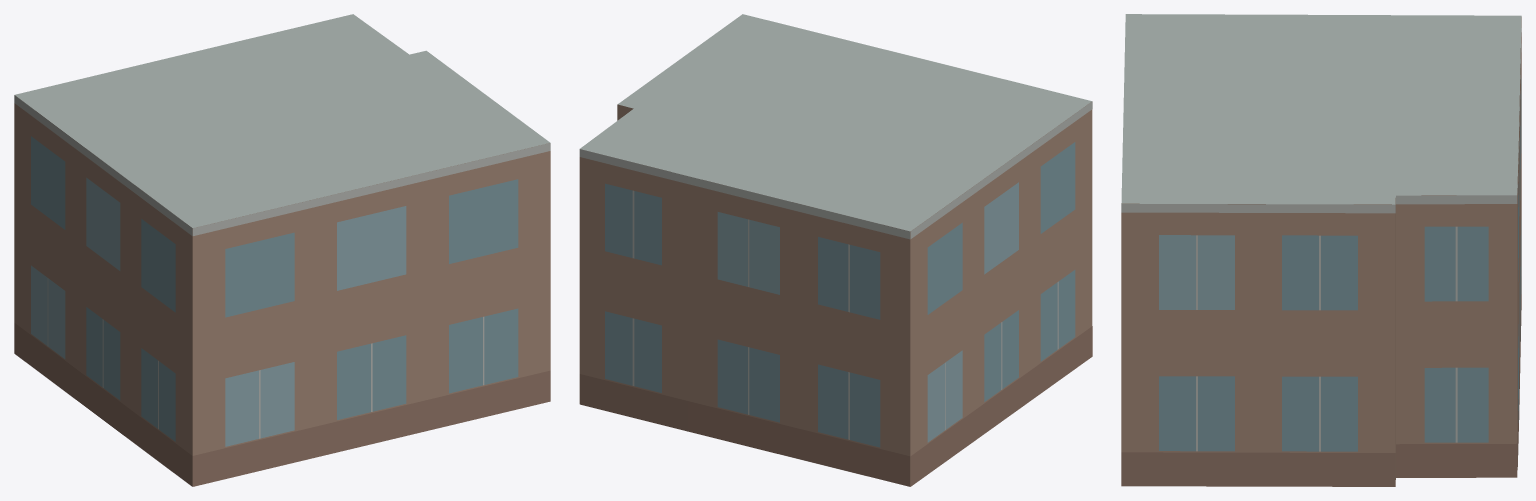
The model's file is survey-upis-32638584.glb.
3 views of the same model, side by side, from view 1: azimuth 30°, elevation 25°; view 2: azimuth 150°, elevation 25°; view 3: azimuth 270°, elevation 25° (orthographic). The views are drawn at different scales.
Parts seen in each view (by area): view 1: survey-upis-32638584.tmp; view 2: survey-upis-32638584.tmp; view 3: survey-upis-32638584.tmp.
Boxes of the visible parts, x1,y1,x2,y2 form: survey-upis-32638584.tmp: [14, 14, 550, 486]; survey-upis-32638584.tmp: [579, 14, 1092, 486]; survey-upis-32638584.tmp: [1121, 14, 1521, 486].
Bounding box in the file's own units: 11.29 × 7.8 × 10.03.
